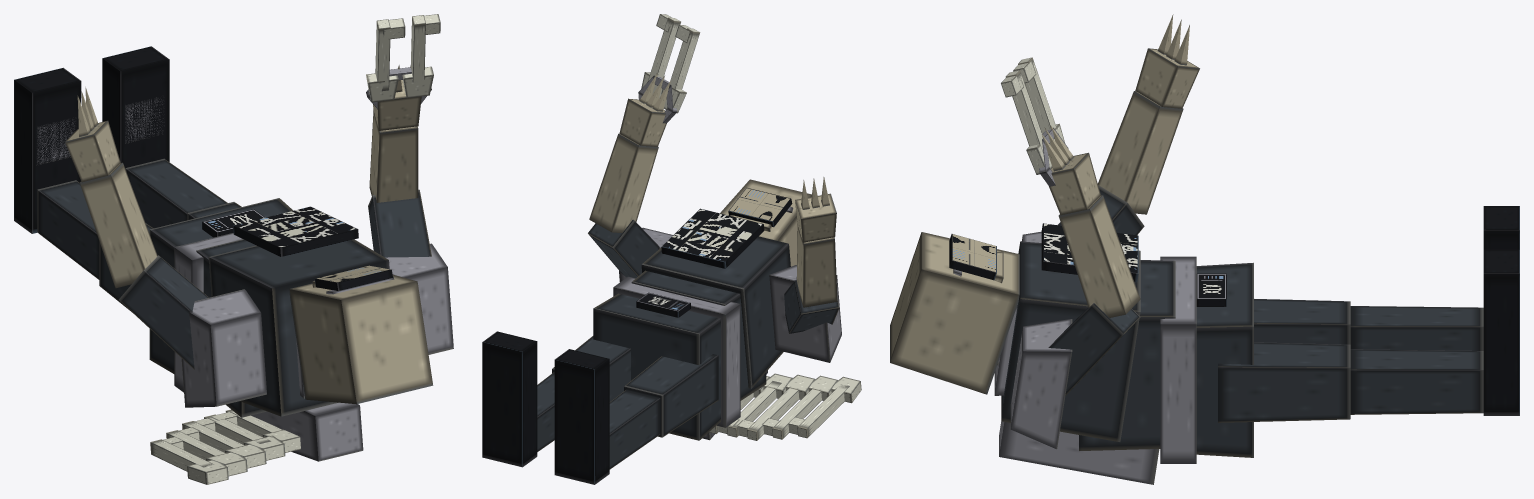
File: absentiel_warning.obj
The picture shows the model from 3 angles, left to right: view 1: azimuth 30°, elevation 25°; view 2: azimuth 150°, elevation 25°; view 3: azimuth 270°, elevation 25°; orthographic projection. The views are drawn at different scales.
Parts seen in each view (by area): view 1: absentiel_warning; view 2: absentiel_warning; view 3: absentiel_warning.
Boxes of the visible parts, left/top/right/bottom form: absentiel_warning: left=14, top=14, right=453, bottom=484; absentiel_warning: left=482, top=14, right=861, bottom=484; absentiel_warning: left=890, top=14, right=1519, bottom=484.
Size of the model in its own units: 0.6103 by 0.7797 by 1.01.
1 material, 1 textured.
